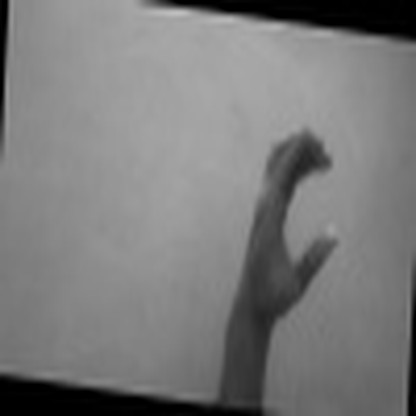c: (232, 129, 341, 325)
